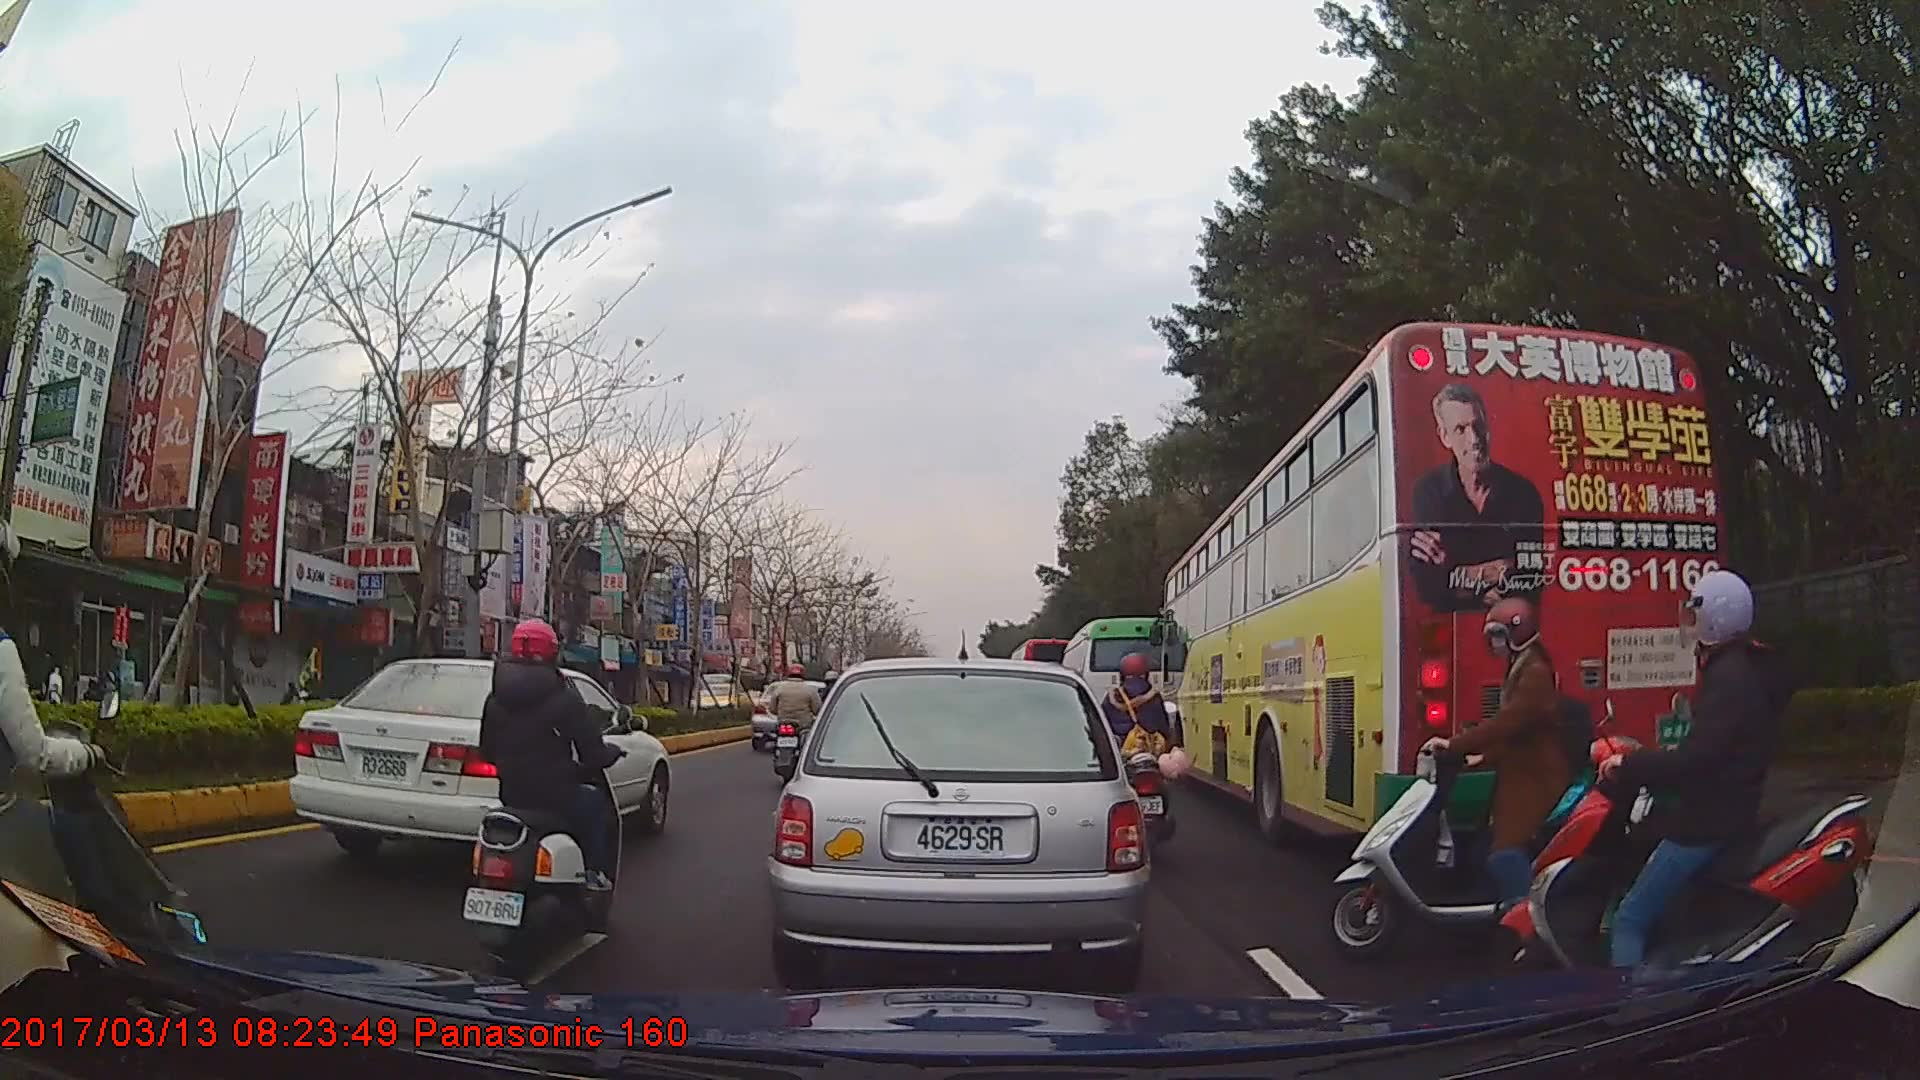rider: (1497, 570, 1868, 1033), (1321, 594, 1679, 970), (461, 618, 625, 983), (1093, 654, 1188, 846), (774, 661, 825, 786), (298, 665, 328, 704)
vehicle: (1159, 319, 1729, 846), (766, 653, 1152, 979), (284, 654, 670, 863), (1057, 617, 1183, 761), (690, 680, 747, 716)
